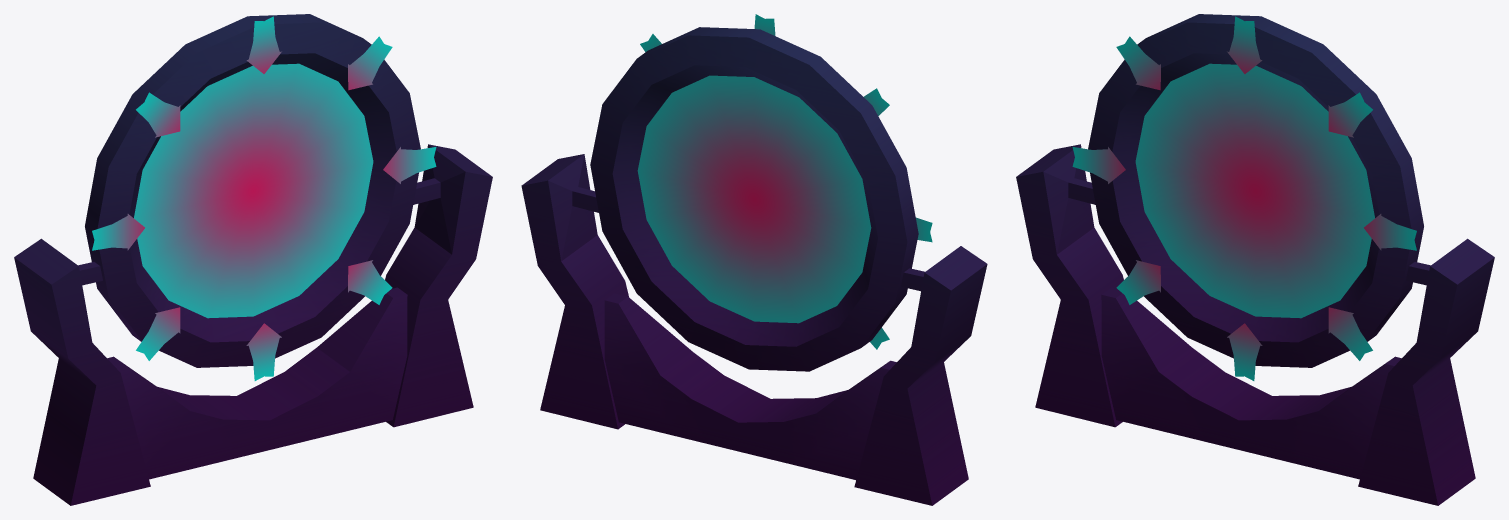
The model's file is SM_PortalArched.fbx.
3 views of the same model, side by side, from view 1: azimuth 30°, elevation 25°; view 2: azimuth 150°, elevation 25°; view 3: azimuth 330°, elevation 25° (orthographic). The views are drawn at different scales.
Visible parts, largest first — view 1: SM_Portal; view 2: SM_Portal; view 3: SM_Portal.
Part boxes in pixels (box(x1,y1,x2,y2)): SM_Portal: box(14, 14, 492, 505); SM_Portal: box(521, 14, 987, 505); SM_Portal: box(1016, 14, 1494, 505).
Bounding box in the file's own units: 528 × 495 × 77.68.
